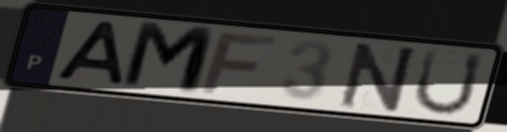3: (280, 38, 339, 104)
A: (53, 19, 128, 87)
F: (197, 31, 281, 96)
M: (117, 19, 220, 98)
N: (336, 40, 421, 113)
U: (409, 47, 487, 118)
